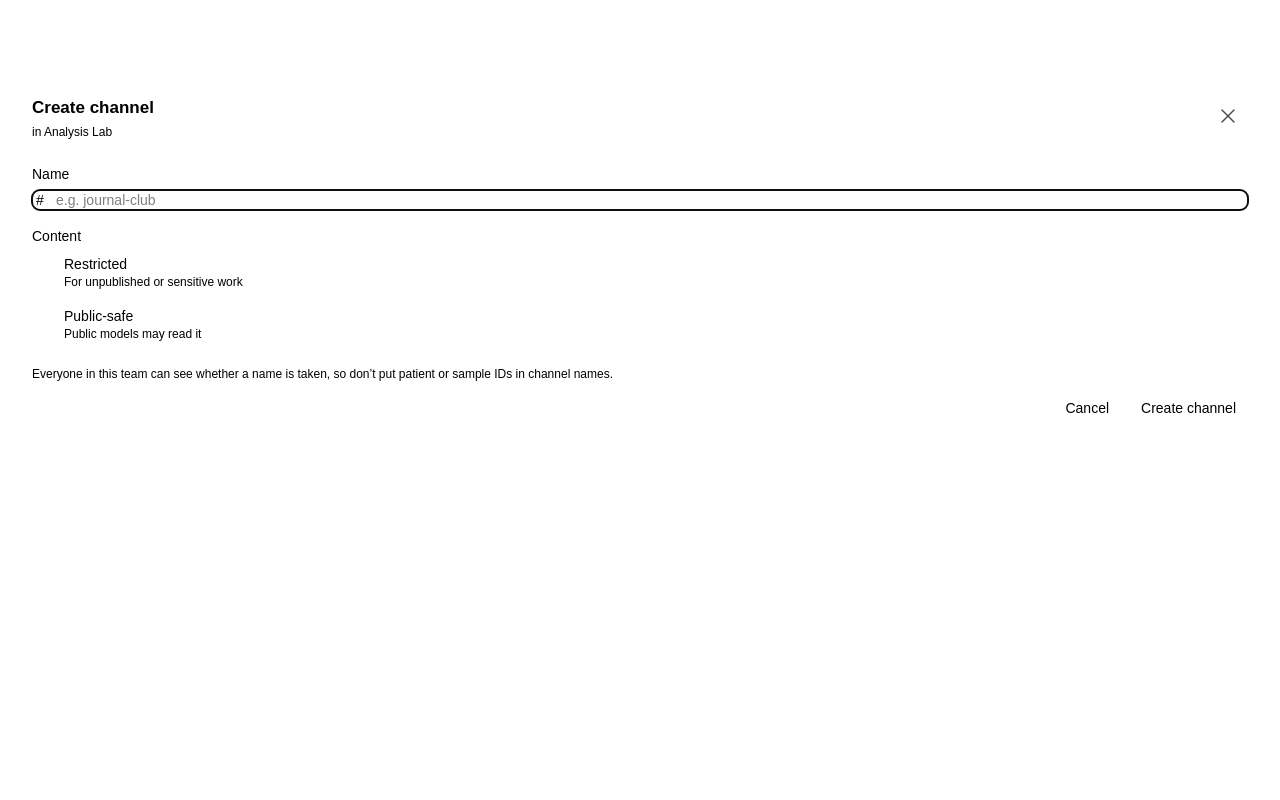
CreateChannelDialog › starts clean every time it opens (L14)
Type "methods" into the field labelled "Name". click: (640,200)
box: [32,190,1248,210]
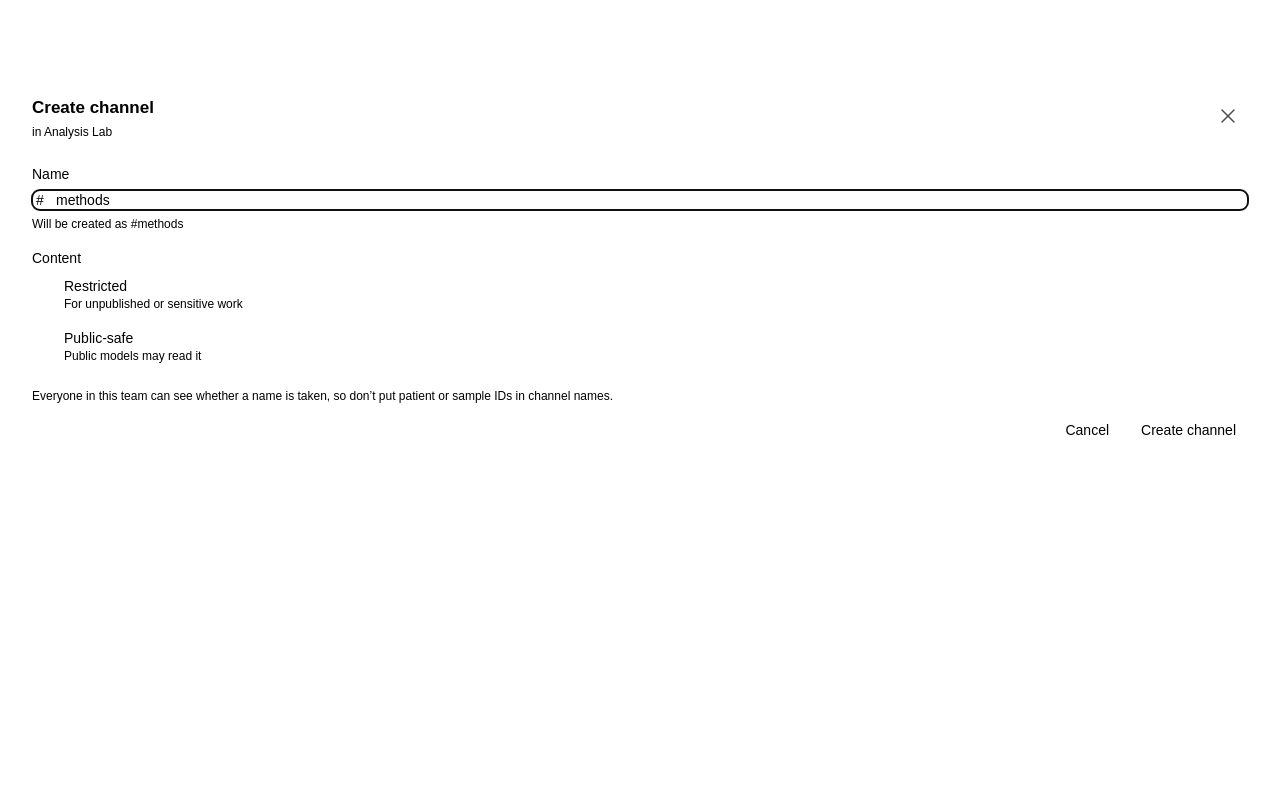
Click the radio button labelled "Public-safe Public models may read it". click: (133,346)
box: [64,330,201,363]
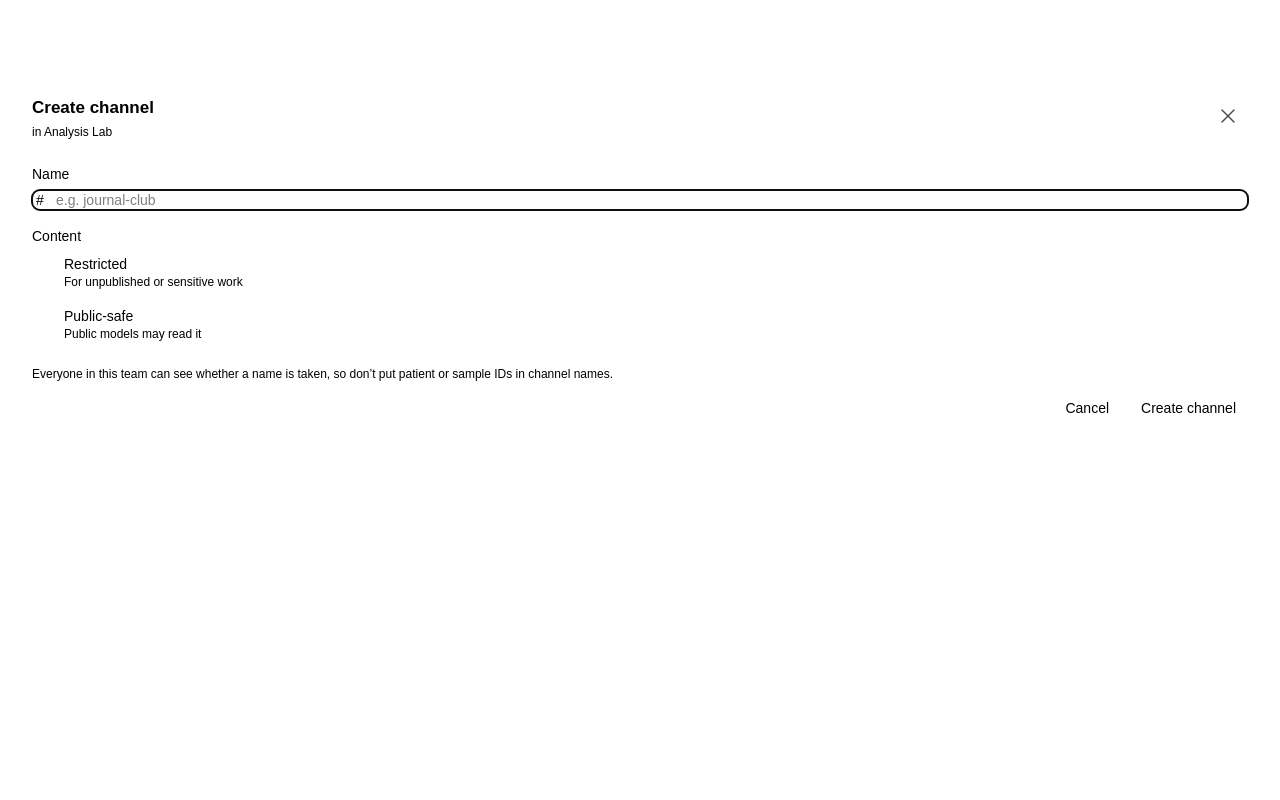
Expected: the field labelled "Name" is empty, [32,190,1248,210]
Expected: the radio button labelled "Restricted For unpublished or sensitive work" is checked, [64,256,243,289]
